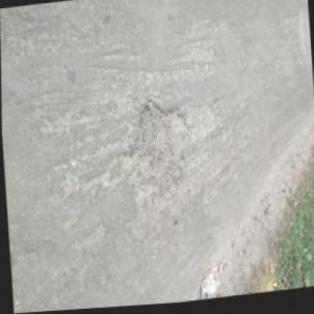Hueco: (130, 99, 192, 196)
